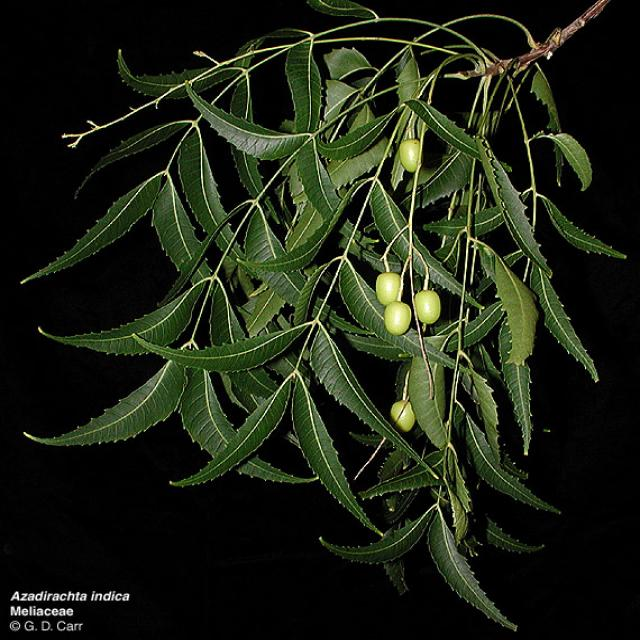Medicinal-Neem: (8, 9, 630, 564)
